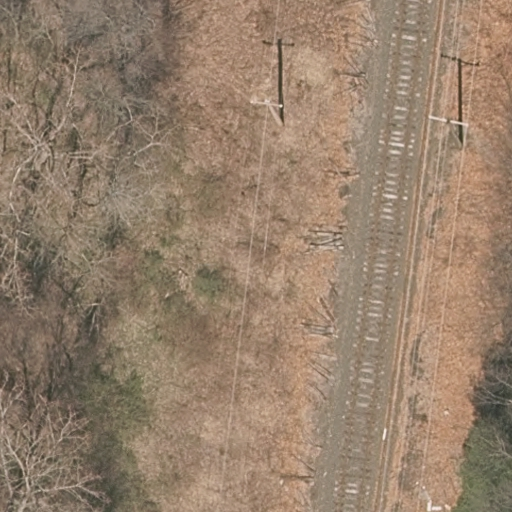DT: (424, 109, 467, 151), (244, 92, 288, 127)
